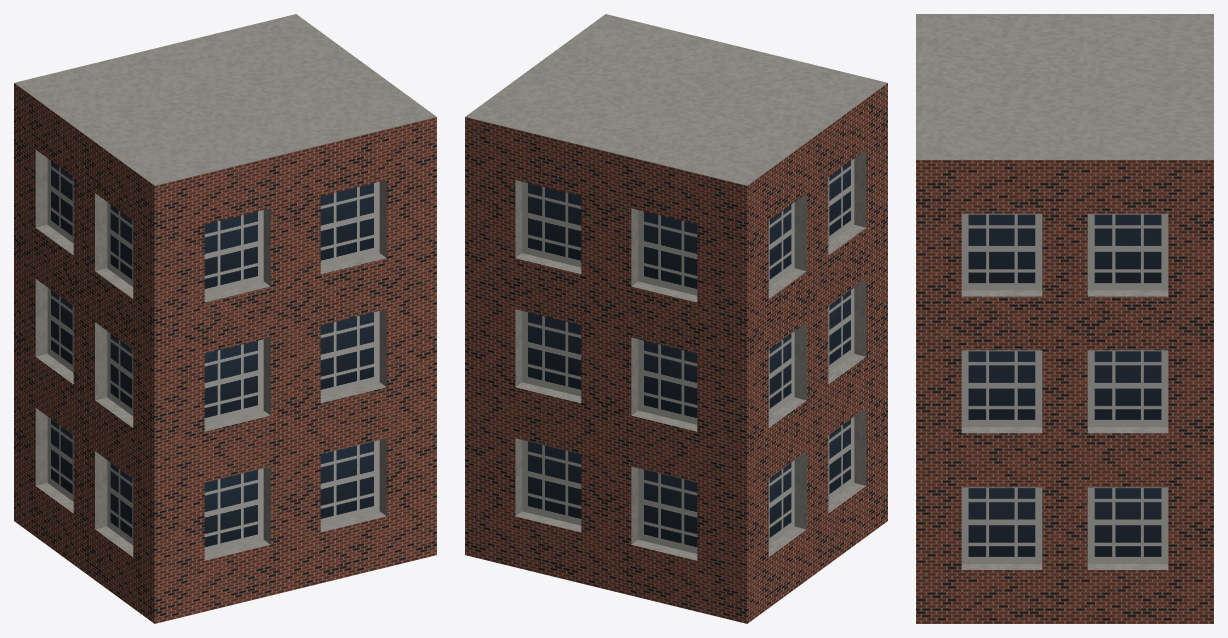
File: bldg-brick.glb
3 renders of one model, left to right at view 1: azimuth 30°, elevation 25°; view 2: azimuth 150°, elevation 25°; view 3: azimuth 270°, elevation 25°, orthographic. The views are drawn at different scales.
Visible parts, largest first — view 1: bldg-brick; view 2: bldg-brick; view 3: bldg-brick.
Part boxes in pixels (box(x1,y1,x2,y2)): bldg-brick: box(14, 14, 436, 623); bldg-brick: box(465, 14, 887, 623); bldg-brick: box(916, 14, 1213, 623).
Bounding box in the file's own units: 1.28 × 1.9 × 1.11.
3 materials, 3 textured.
